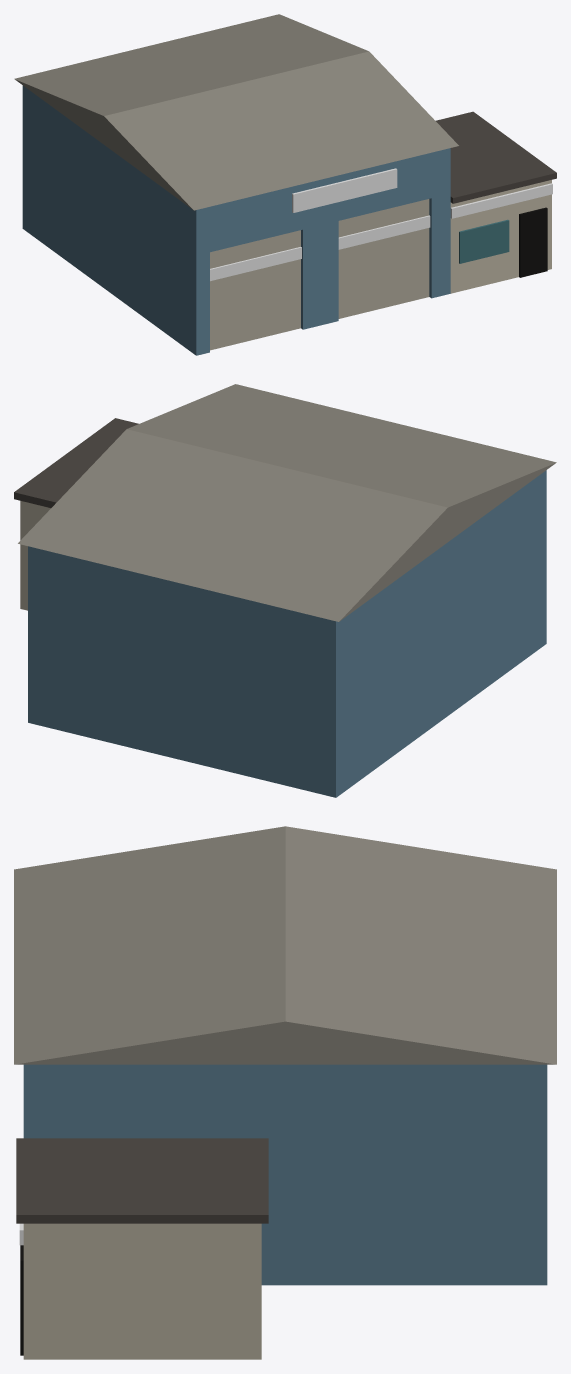
The picture shows the model from 3 angles, top to bottom: view 1: azimuth 30°, elevation 25°; view 2: azimuth 150°, elevation 25°; view 3: azimuth 270°, elevation 25°; orthographic projection. The views are drawn at different scales.
Visible parts, largest first — view 1: site_garage_restored; view 2: site_garage_restored; view 3: site_garage_restored.
Part boxes in pixels (x1=…): site_garage_restored: x1=14, y1=14, x2=556, y2=355; site_garage_restored: x1=14, y1=384, x2=556, y2=797; site_garage_restored: x1=14, y1=826, x2=556, y2=1359.
Bounding box in the file's own units: 13.3 × 6.2 × 11.4.
